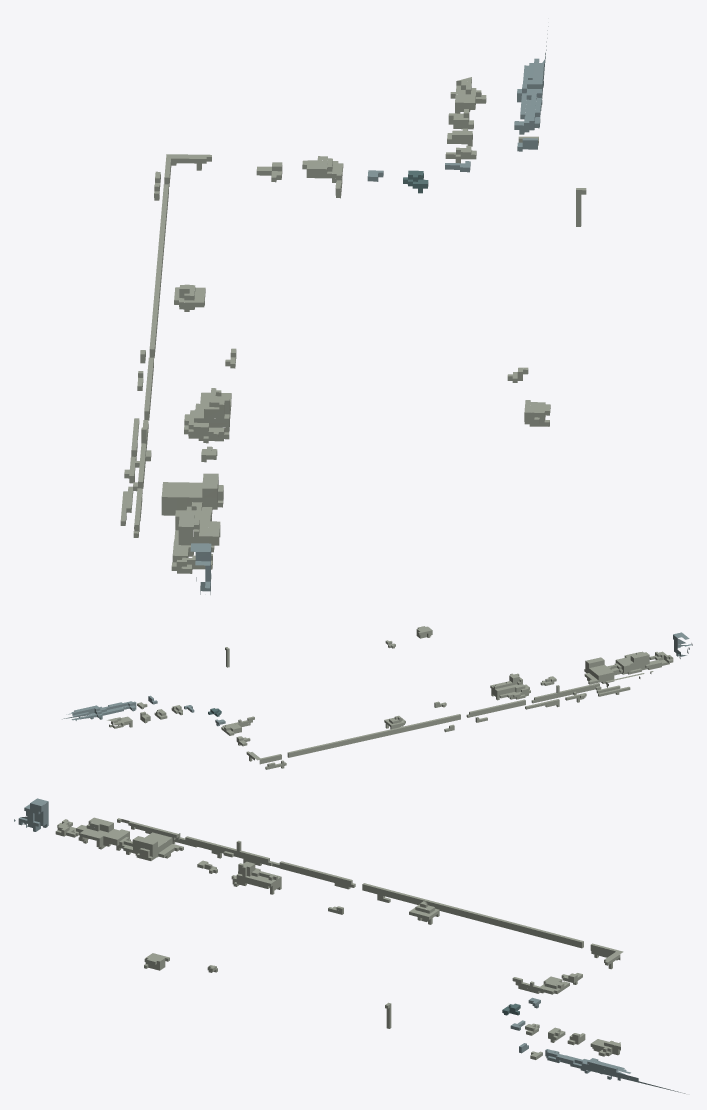
3 renders of one model, top to bottom at view 1: azimuth 30°, elevation 25°; view 2: azimuth 150°, elevation 25°; view 3: azimuth 270°, elevation 25°, orthographic. The views are drawn at different scales.
Visible parts, largest first — view 1: measured-industrial; view 2: measured-industrial; view 3: measured-industrial.
Boxes of the visible parts, x1,y1,x2,y2 form: measured-industrial: (120, 26, 586, 594); measured-industrial: (62, 626, 692, 769); measured-industrial: (14, 798, 685, 1093).
Size of the model in its own units: 195 by 13.12 by 202.
